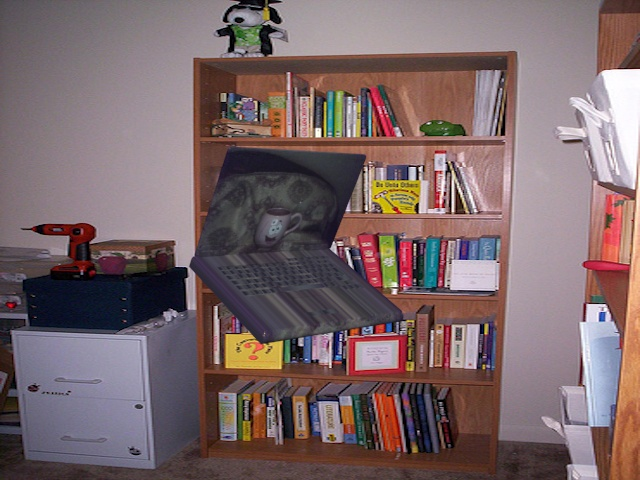laptop_computer: (177, 144, 416, 352)
